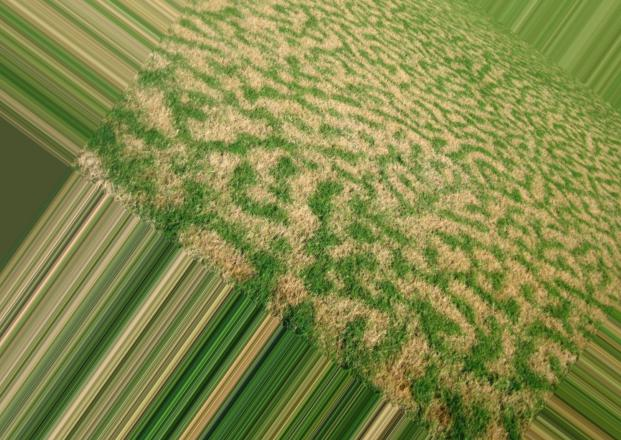patch: (199, 8, 606, 337)
